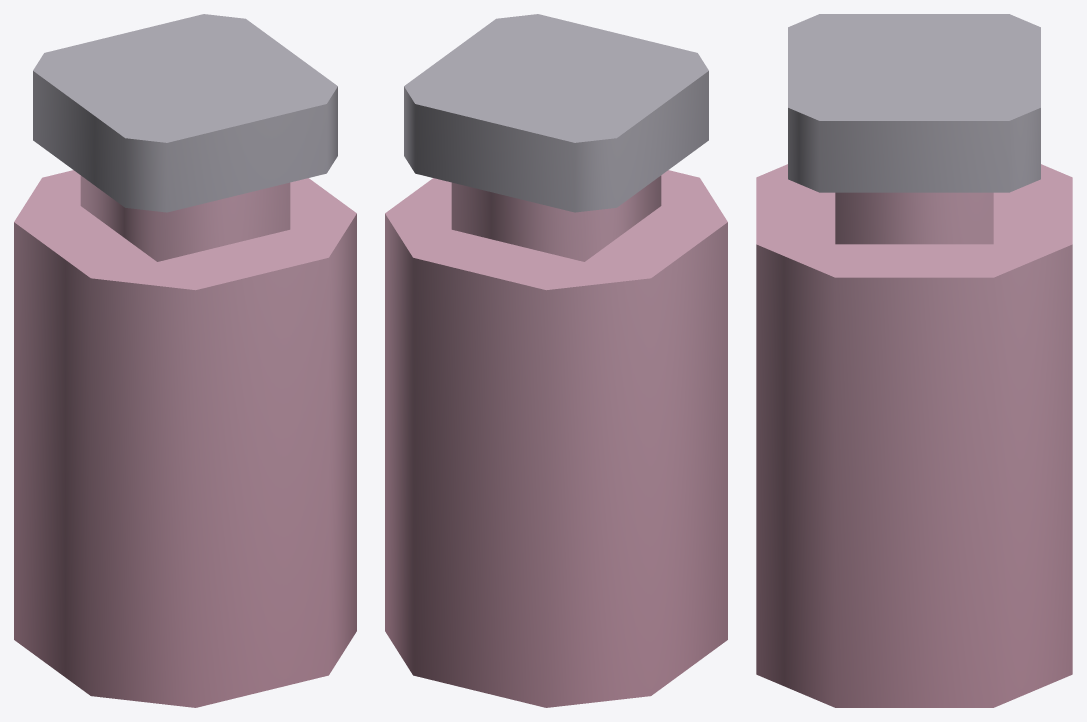
The model's file is perfume-tall.glb.
The picture shows the model from 3 angles, left to right: view 1: azimuth 30°, elevation 25°; view 2: azimuth 150°, elevation 25°; view 3: azimuth 270°, elevation 25°; orthographic projection. The views are drawn at different scales.
Visible parts, largest first — view 1: perfume-tall; view 2: perfume-tall; view 3: perfume-tall.
Boxes of the visible parts, x1,y1,x2,y2 form: perfume-tall: (14, 14, 356, 707); perfume-tall: (385, 14, 727, 707); perfume-tall: (756, 14, 1072, 707).
Bounding box in the file's own units: 0.1 × 0.2 × 0.1.
